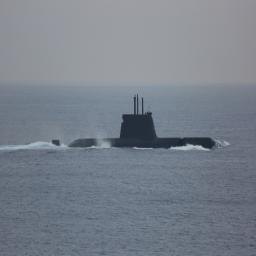submarine: (54, 92, 217, 147)
